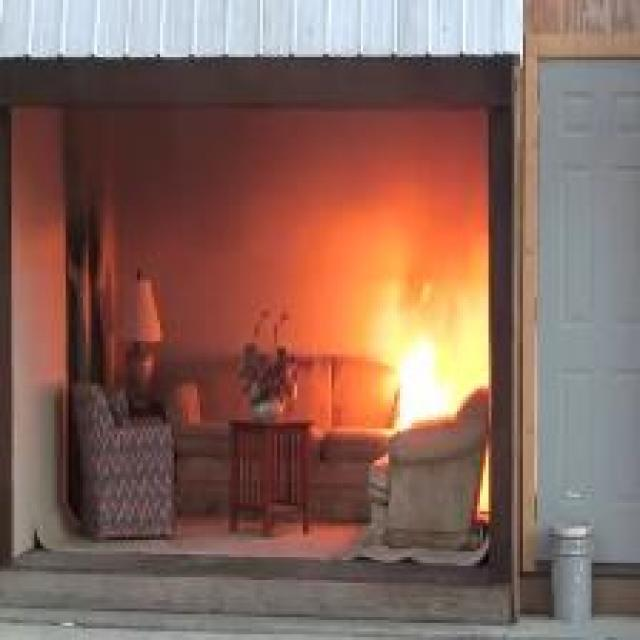Fire: (400, 341, 454, 428)
